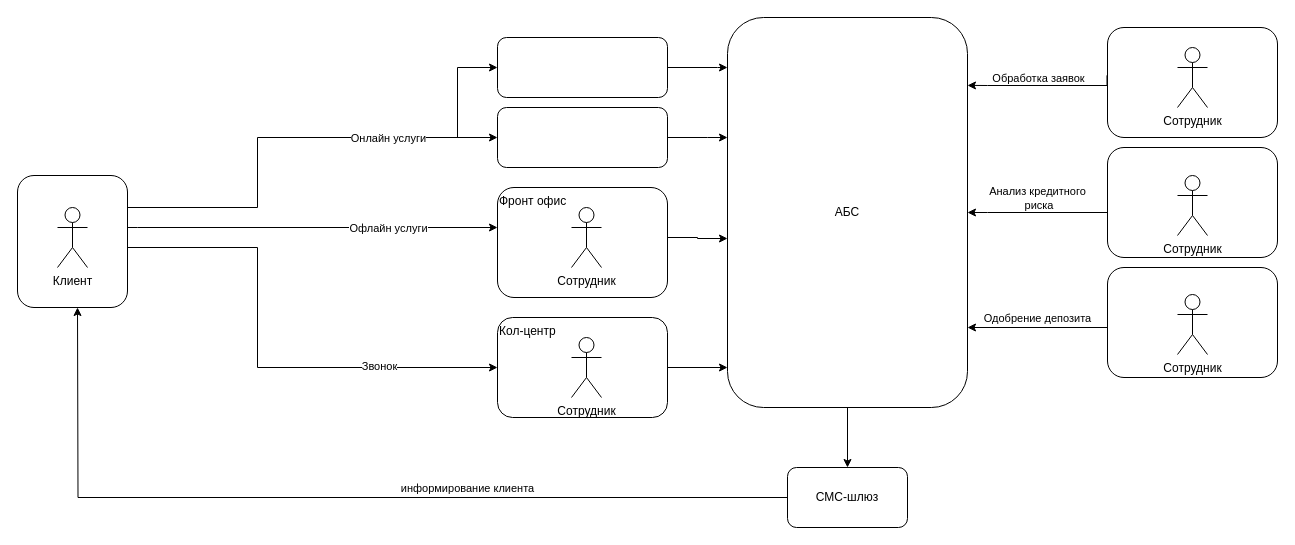
Some shapes in this 1295 by 545 pixel diagram are drawn without their labels. The shapes that lost their labels are listed below. From the top down, each one's box as (x1, y1, x2, y2) in pixels, then its label:
(496, 36, 668, 98): Сайт
(1106, 26, 1278, 138): Бэк офис
(496, 106, 668, 168): Интернет-банк
(1106, 146, 1278, 258): Кредитный отдел
(1106, 266, 1278, 378): Депозитный отдел
